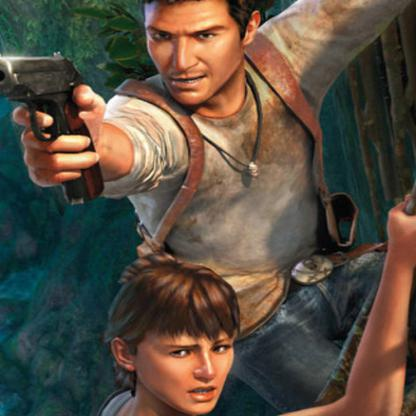gun: (0, 50, 110, 204)
